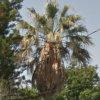Palm tree: (23, 2, 86, 99)
